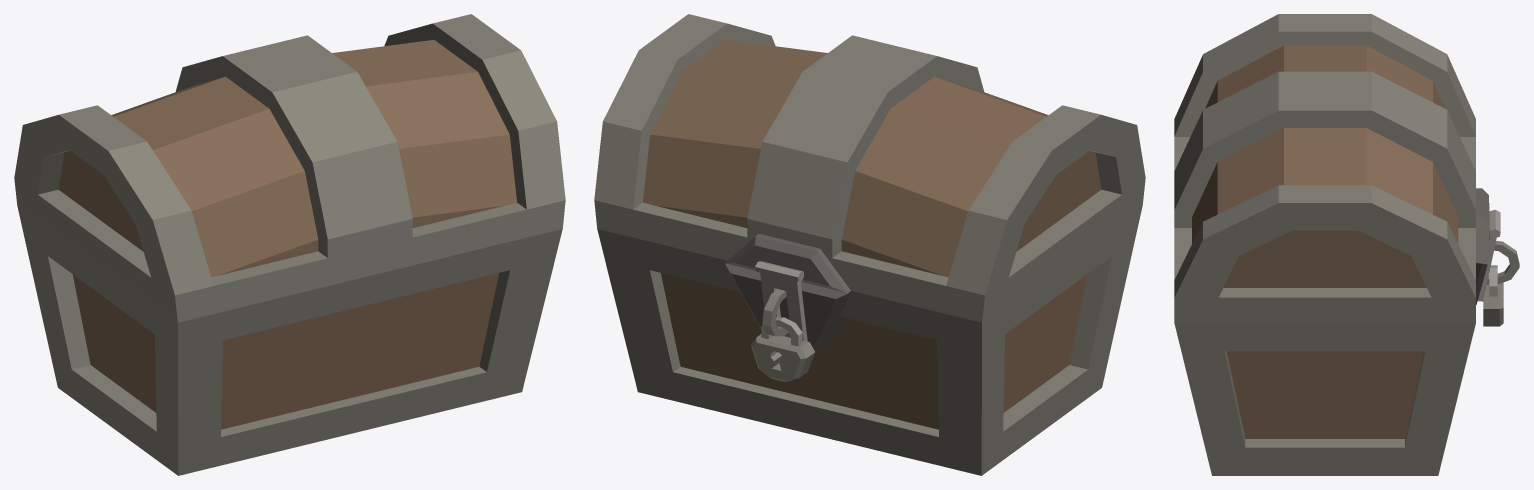
File: Prop_Treasure_Chest.obj
The picture shows the model from 3 angles, left to right: view 1: azimuth 30°, elevation 25°; view 2: azimuth 150°, elevation 25°; view 3: azimuth 270°, elevation 25°; orthographic projection. The views are drawn at different scales.
Visible parts, largest first — view 1: object9, object5, object4, object1; view 2: object9, object4, object5, object1, object10, object2, object7, object8, object3, object6; view 3: object9, object4, object5, object1, object7, object2, object3.
Boxes of the visible parts, x1=… form: object9: x1=14, y1=14, x2=565, y2=322; object5: x1=17, y1=205, x2=562, y2=475; object4: x1=58, y1=40, x2=516, y2=277; object1: x1=72, y1=273, x2=498, y2=429; object9: x1=594, y1=14, x2=1145, y2=322; object4: x1=643, y1=40, x2=1101, y2=277; object5: x1=597, y1=205, x2=1142, y2=475; object1: x1=661, y1=273, x2=1087, y2=429; object10: x1=725, y1=263, x2=850, y2=345; object2: x1=725, y1=234, x2=850, y2=293; object7: x1=751, y1=317, x2=815, y2=381; object8: x1=760, y1=272, x2=807, y2=341; object3: x1=762, y1=289, x2=787, y2=336; object6: x1=755, y1=261, x2=803, y2=281; object9: x1=1174, y1=14, x2=1475, y2=322; object4: x1=1192, y1=45, x2=1458, y2=287; object5: x1=1174, y1=323, x2=1475, y2=475; object1: x1=1226, y1=351, x2=1423, y2=438; object7: x1=1483, y1=265, x2=1503, y2=326; object2: x1=1476, y1=188, x2=1489, y2=262; object3: x1=1487, y1=241, x2=1519, y2=285.
Bounding box in the file's own units: 0.9714 × 0.7334 × 0.7495.
